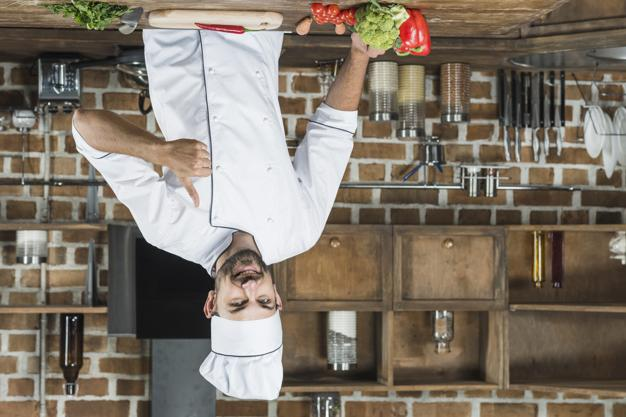thumbsdown: (179, 138, 212, 208)
